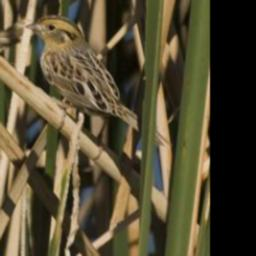Sparrow: (22, 13, 172, 149)
